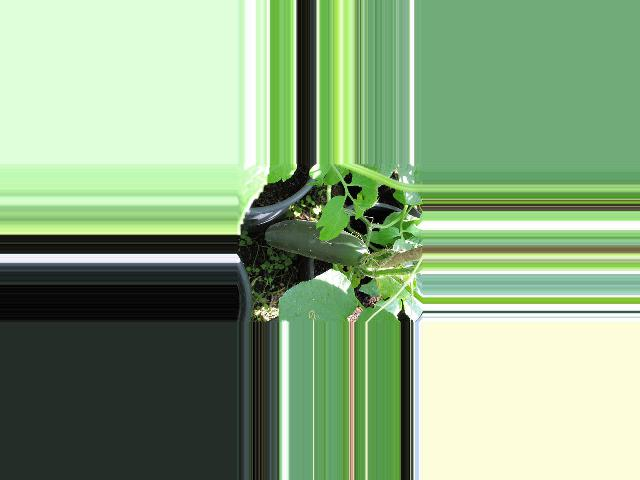cucumber: (265, 220, 368, 266)
